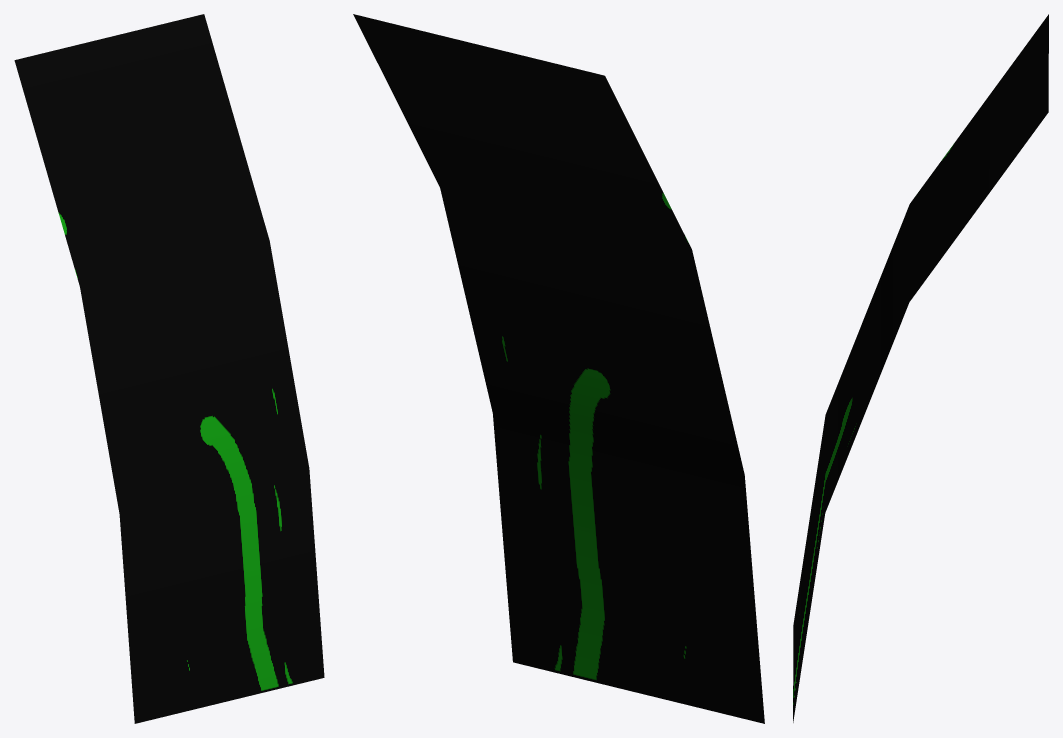
Rendered from Plant01.dae.
3 views of the same model, side by side, from view 1: azimuth 30°, elevation 25°; view 2: azimuth 150°, elevation 25°; view 3: azimuth 270°, elevation 25° (orthographic). The views are drawn at different scales.
Parts seen in each view (by area): view 1: Plane; view 2: Plane; view 3: Plane.
Part boxes in pixels (<box>): Plane: <box>14,14,324,723</box>; Plane: <box>353,14,764,723</box>; Plane: <box>793,14,1048,722</box>.
Size of the model in its own units: 0.7744 by 0.8516 by 2.25.
1 material, 1 textured.
